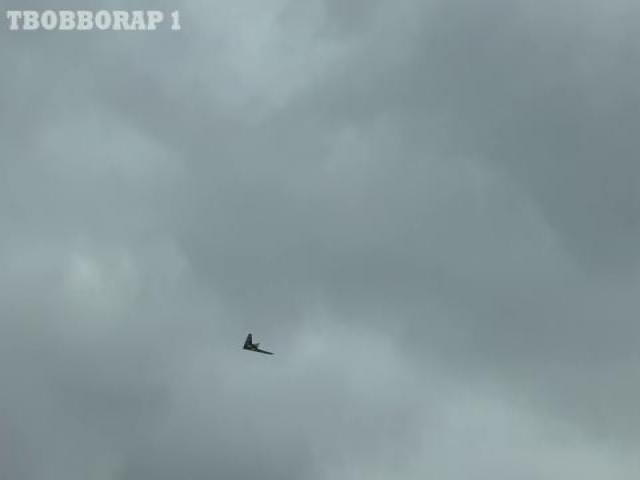flying wing: (242, 333, 273, 359)
